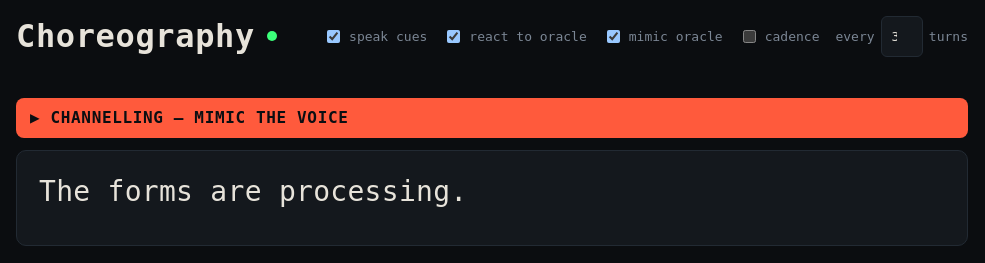
turning 'mimic oracle' off clears the channelling banner immediately
The image size is (985, 263).
Expected: the text "▶ channelling — mimic the voice" is shown, [16,98,968,138]
Click the checkbox labelled "mimic oracle" at (613, 36), box [607,30,620,43]
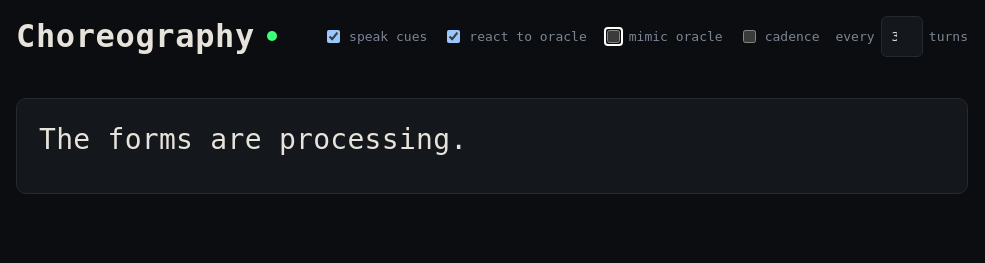
Expected: the text "channelling" is gone
